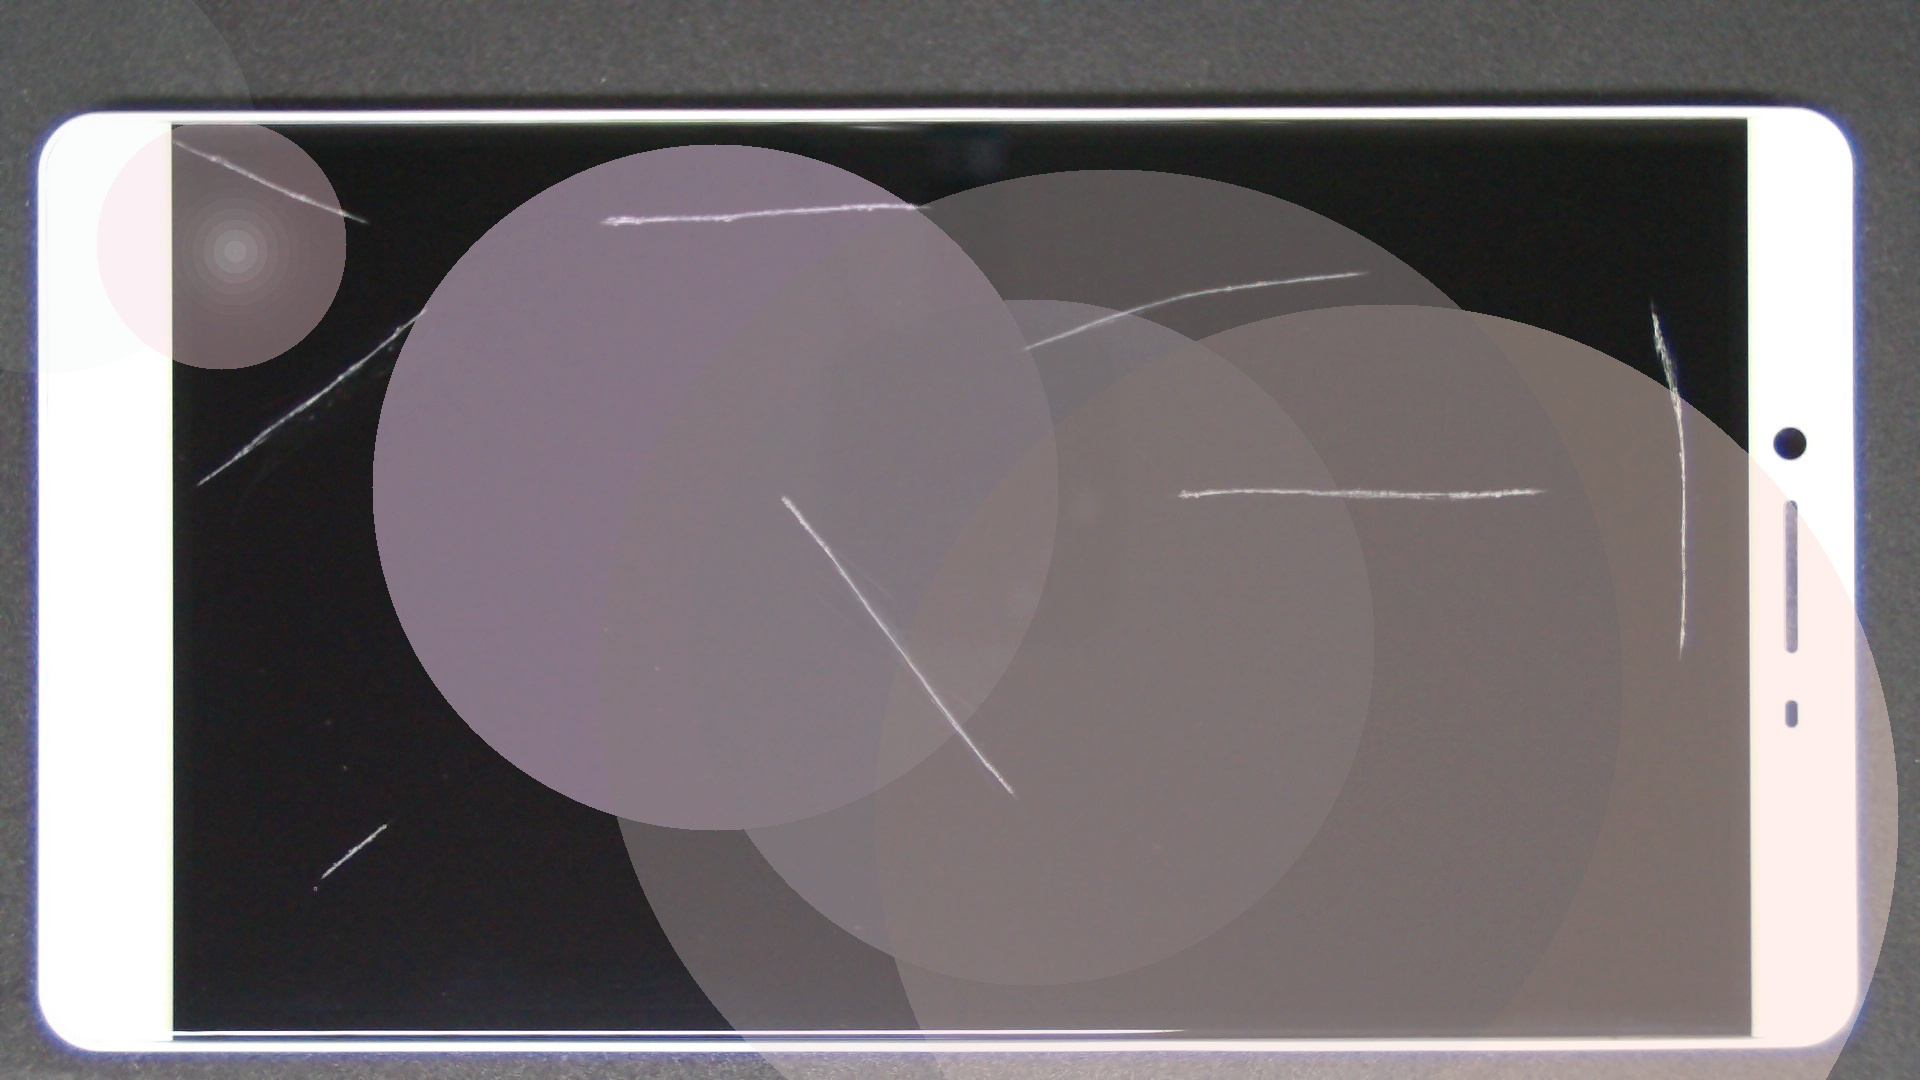oil: (617, 243, 1850, 729), (392, 247, 1174, 741), (825, 141, 1920, 463), (675, 135, 1920, 406), (194, 409, 572, 1080), (447, 100, 1338, 302), (214, 152, 637, 460), (87, 66, 260, 210)
